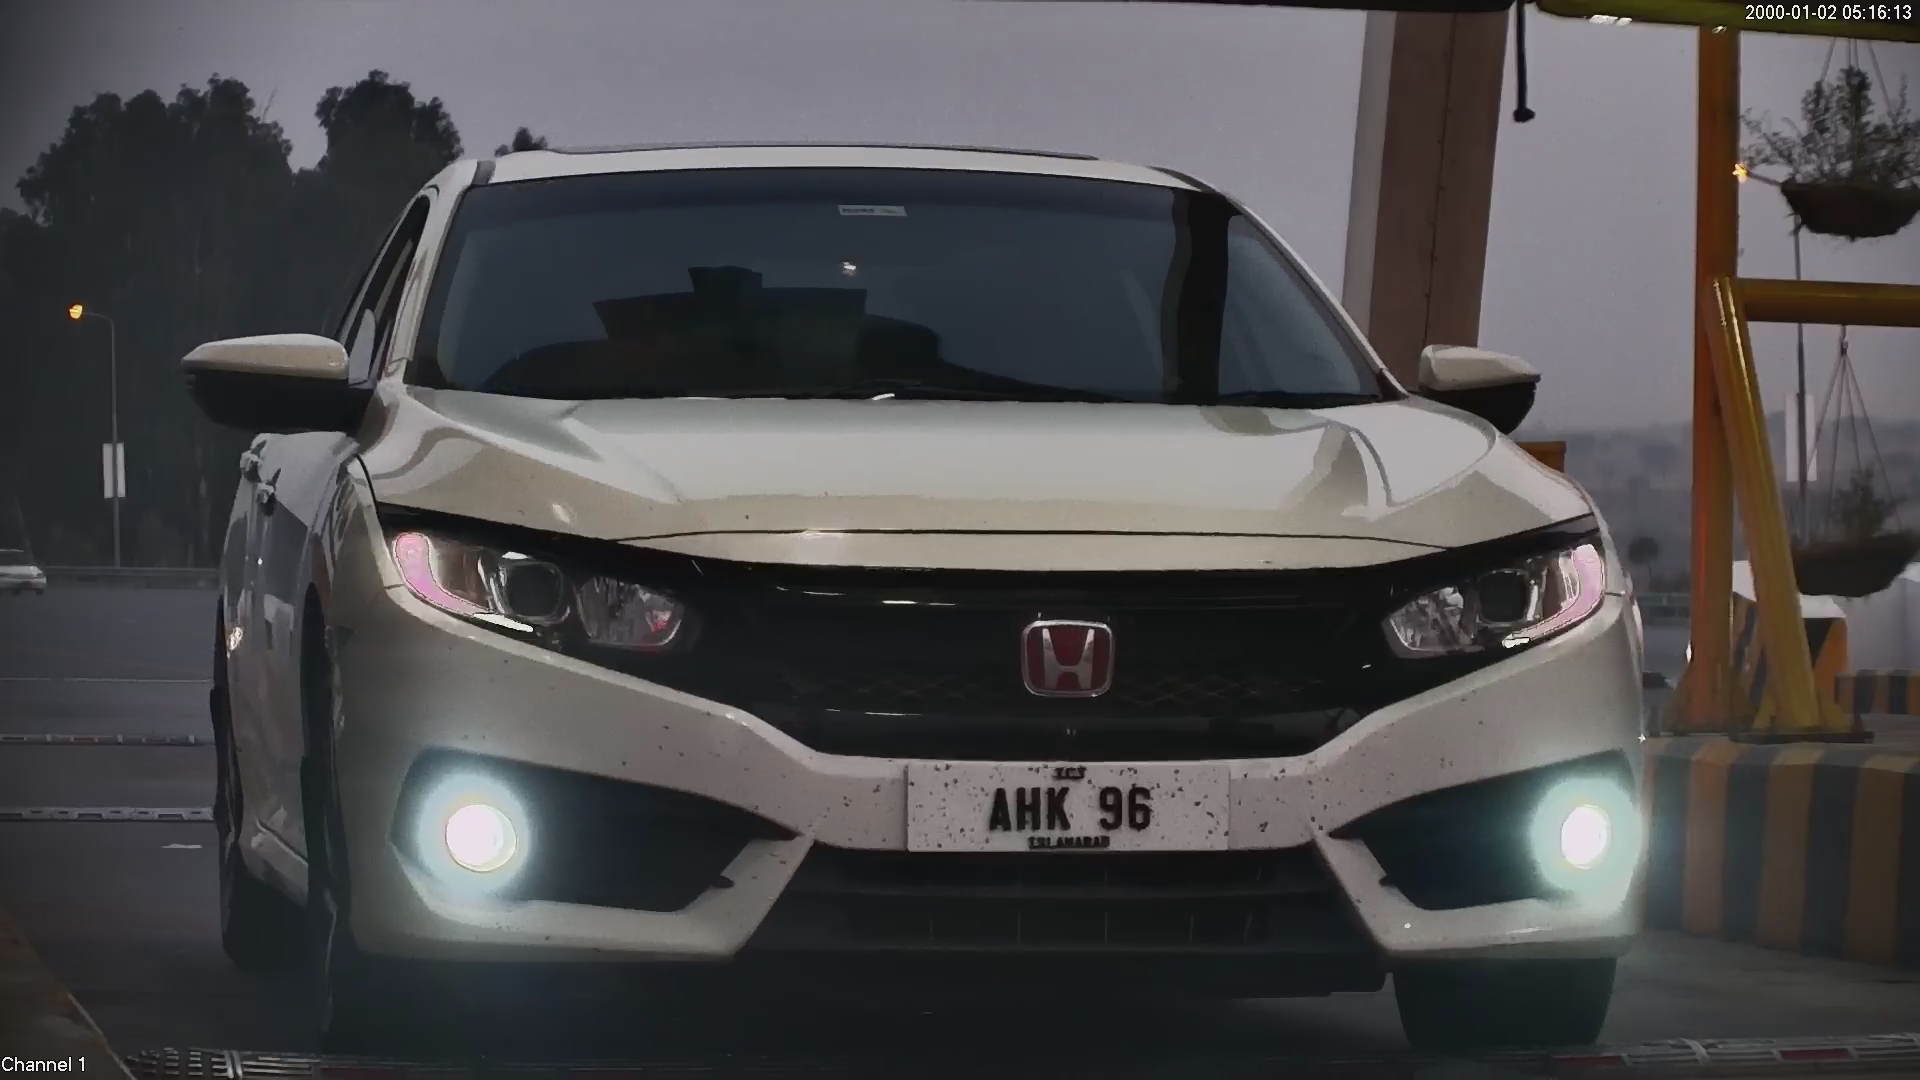Number_Plate: (891, 749, 1242, 872)
